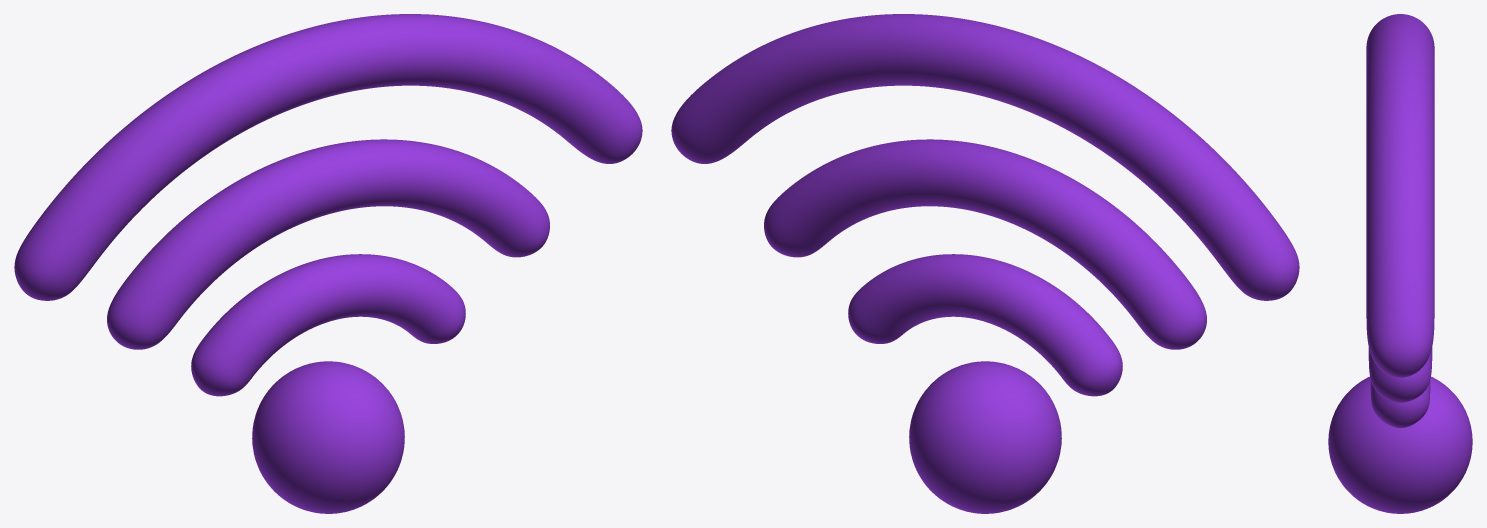
Rendered from wifi.fbx.
3 renders of one model, left to right at view 1: azimuth 30°, elevation 25°; view 2: azimuth 150°, elevation 25°; view 3: azimuth 270°, elevation 25°, orthographic. The views are drawn at different scales.
Parts seen in each view (by area): view 1: wif; view 2: wif; view 3: wif.
Part boxes in pixels (x1=…): wif: x1=14, y1=14, x2=642, y2=513; wif: x1=671, y1=14, x2=1299, y2=513; wif: x1=1328, y1=14, x2=1472, y2=513.
Bounding box in the file's own units: 201 × 149 × 42.91.
